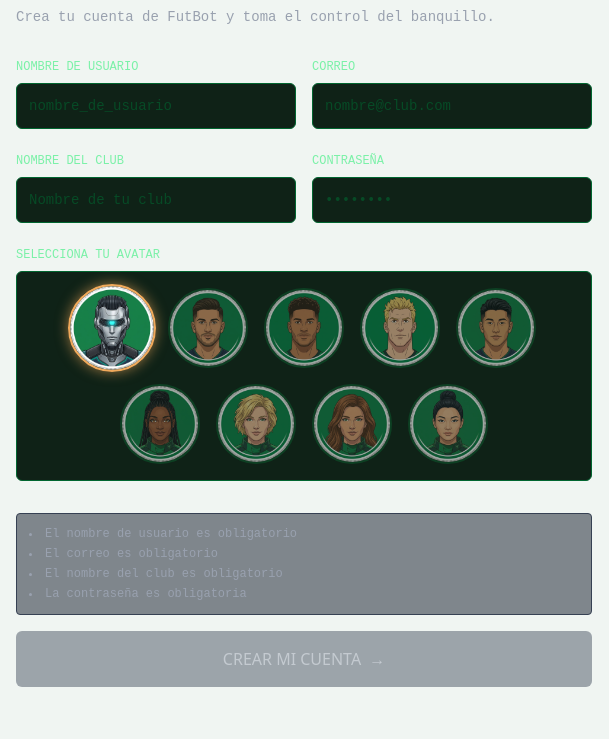
Test: RegisterForm › Debe enviar el payload correcto y mostrar mensaje de éxito (201)
Step 1. Type "Transistores" into the field labelled "Nombre de usuario" → (156, 106), box [29,96,283,116]
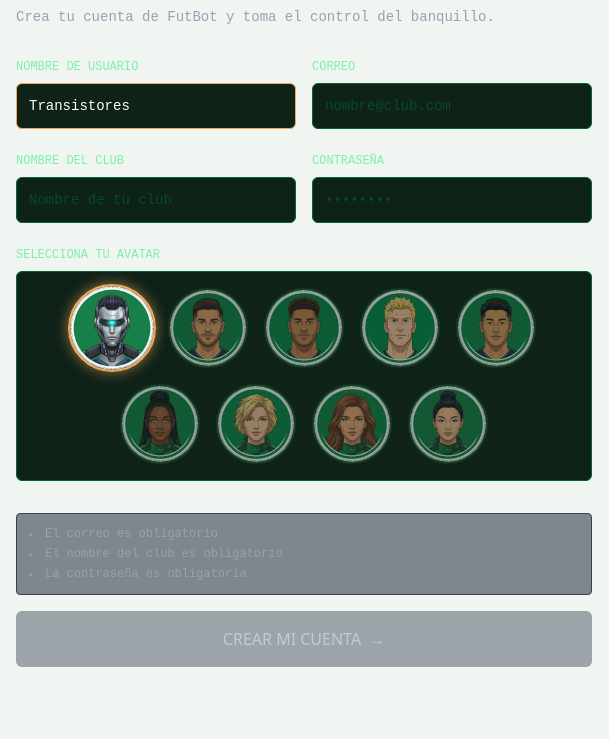
Step 2. Type "grupoTransistores@mail.com" into the field labelled "Correo" → (452, 106), box [325,96,579,116]
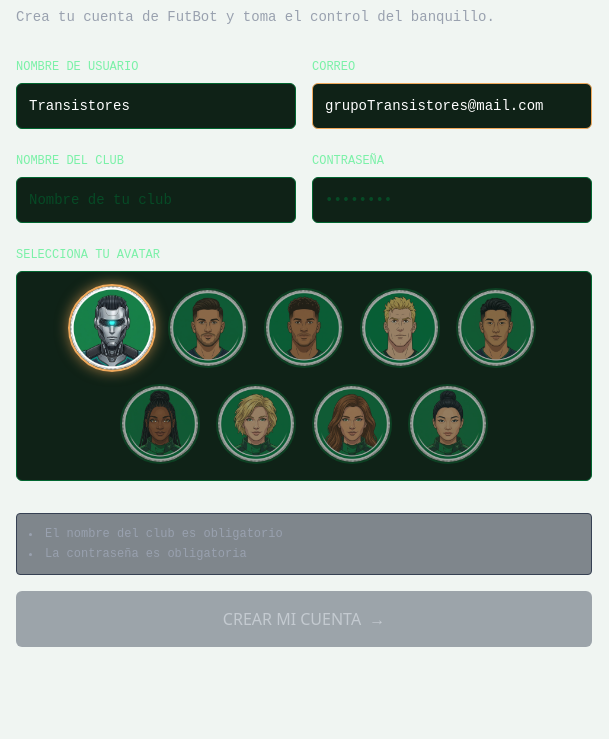
Step 3. Type "Los Transistores FC" into the field labelled "Nombre del Club" → (156, 200), box [29,190,283,210]
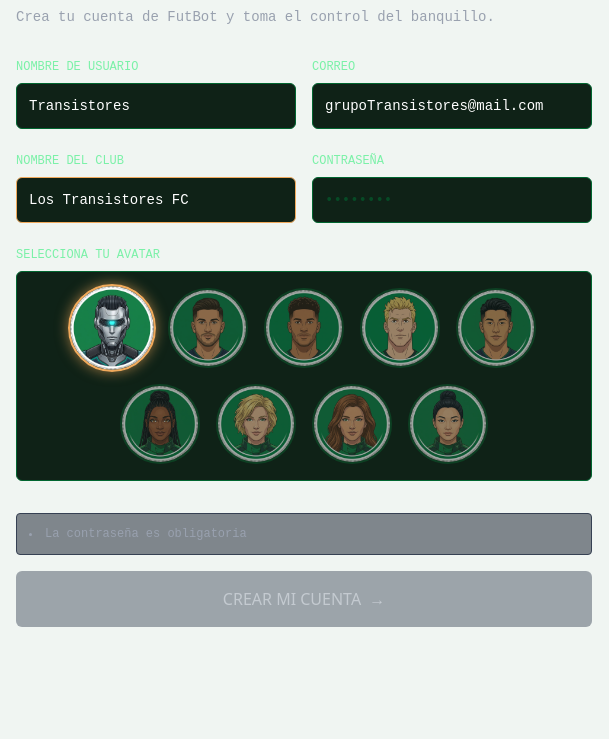
Step 4. Type "12345678" into the password field labelled "Contraseña" → (452, 200), box [325,190,579,210]
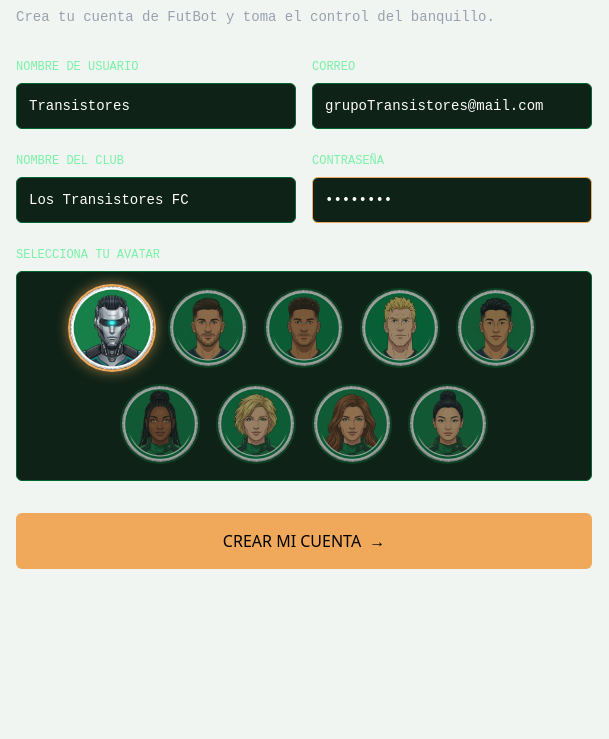
Now the button "CREAR MI CUENTA →" is enabled
Step 5. Click the button "CREAR MI CUENTA →" → (304, 541), box [16,513,592,569]
(page scrolled)
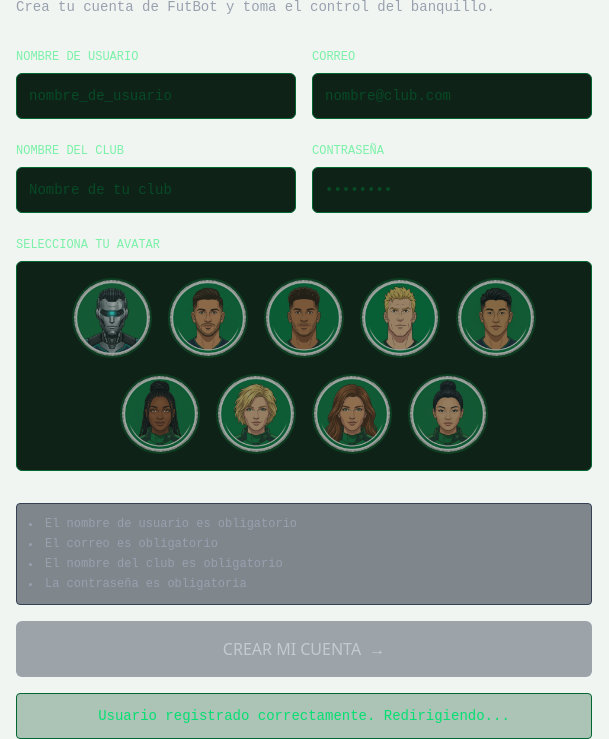
Now the text "Usuario registrado correctamente. Redirigiendo..." is shown, box [16,693,592,738]
